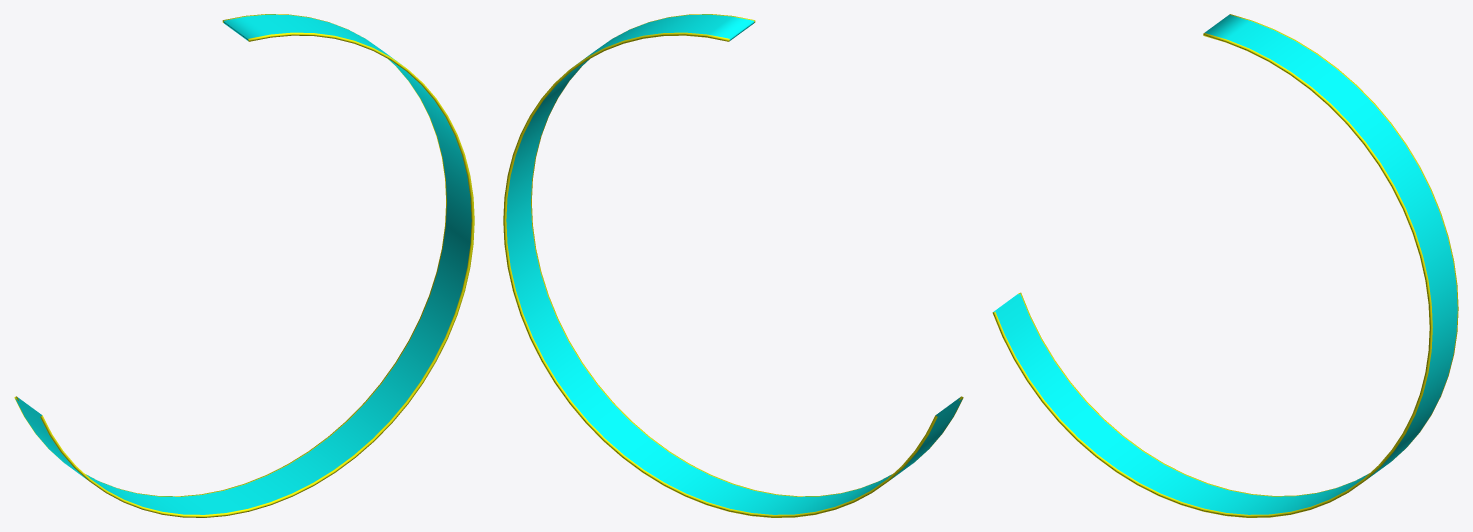
Rendered from TouchNote10.fbx.
The picture shows the model from 3 angles, left to right: view 1: azimuth 30°, elevation 25°; view 2: azimuth 150°, elevation 25°; view 3: azimuth 330°, elevation 25°; orthographic projection.
Visible parts, largest first — view 1: TouchNote10; view 2: TouchNote10; view 3: TouchNote10.
Part boxes in pixels (x1,y1,x2,y2): TouchNote10: (14, 14, 474, 517); TouchNote10: (503, 14, 963, 517); TouchNote10: (992, 14, 1458, 517).
Size of the model in its own units: 190 by 20 by 198.
